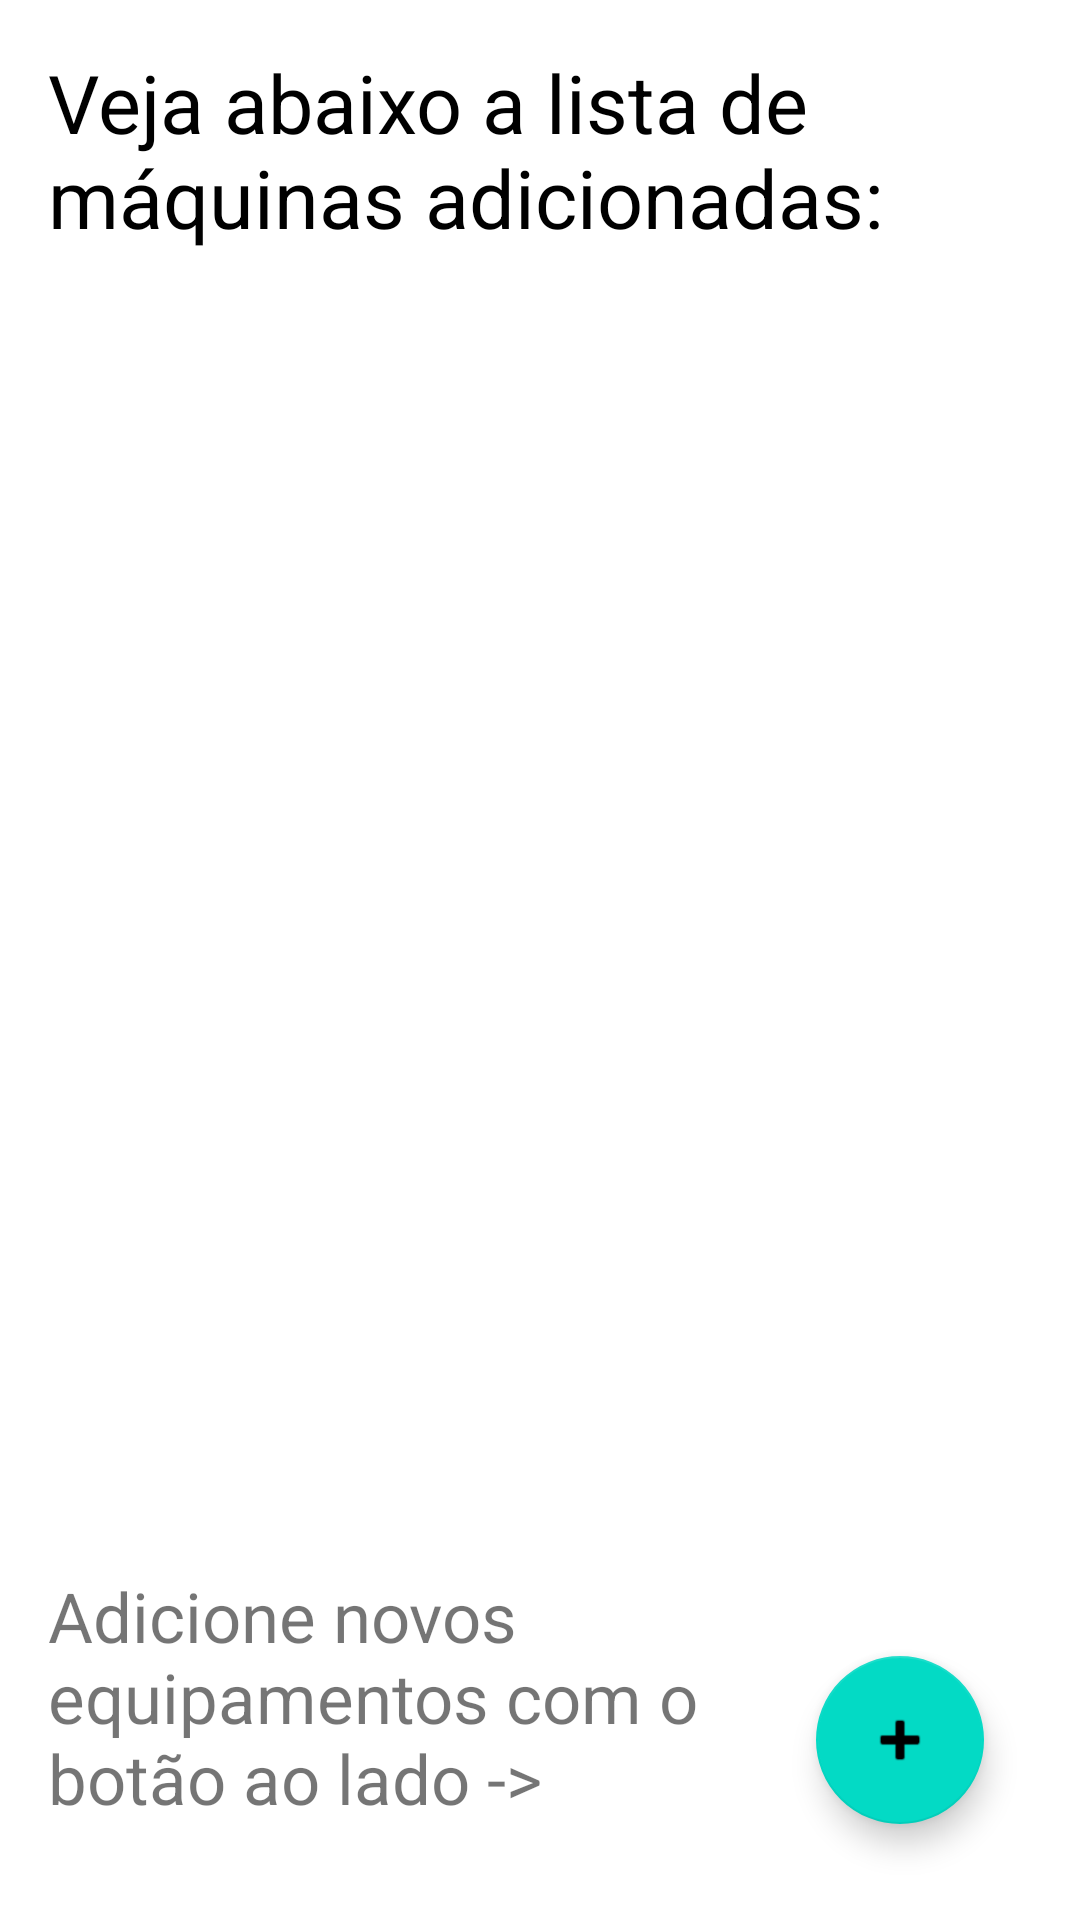

Screen size 1080 x 1920. Icon name, then its center in pixels as (x,y):
Botão que adiciona novas maquinas: (900,1740)
